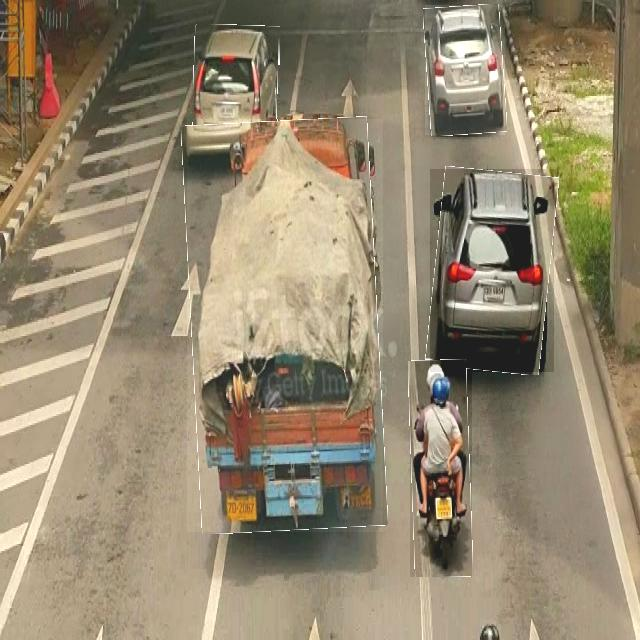Car: (430, 169, 554, 372), (193, 25, 280, 162), (425, 5, 505, 135)
Motorcycle: (410, 360, 472, 577)
Truck: (187, 119, 383, 532)
